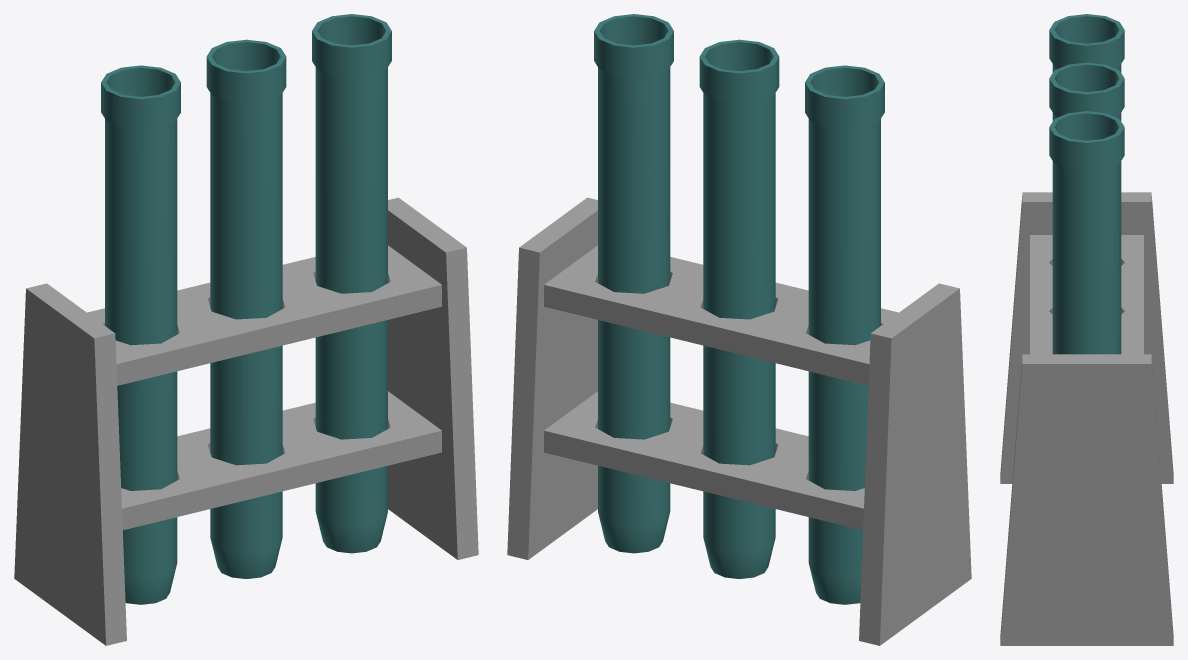
File: Holder2.fbx
3 renders of one model, left to right at view 1: azimuth 30°, elevation 25°; view 2: azimuth 150°, elevation 25°; view 3: azimuth 270°, elevation 25°, orthographic. The views are drawn at different scales.
Visible parts, largest first — view 1: polySurface182; view 2: polySurface182; view 3: polySurface182.
Boxes of the visible parts, bbox=[...] form: polySurface182: bbox=[14, 14, 478, 645]; polySurface182: bbox=[507, 14, 971, 645]; polySurface182: bbox=[1000, 14, 1173, 645].
Bounding box in the file's own units: 10.7 × 4.57 × 14.
